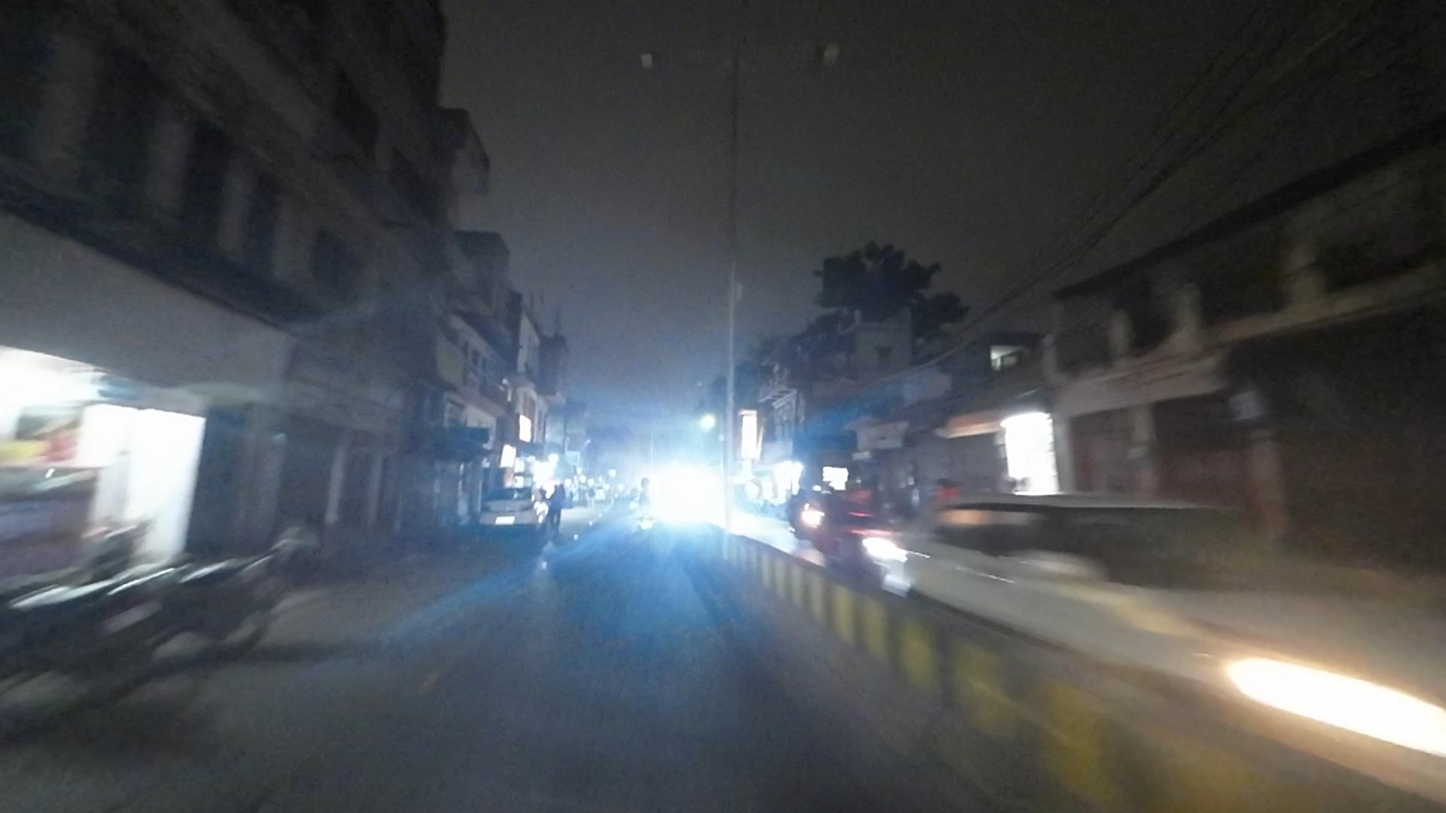streetlight: (632, 37, 732, 76), (747, 38, 848, 75)
